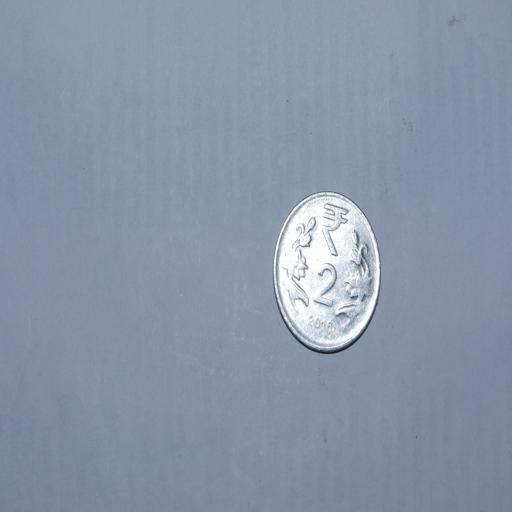rupee2: (268, 188, 382, 355)
